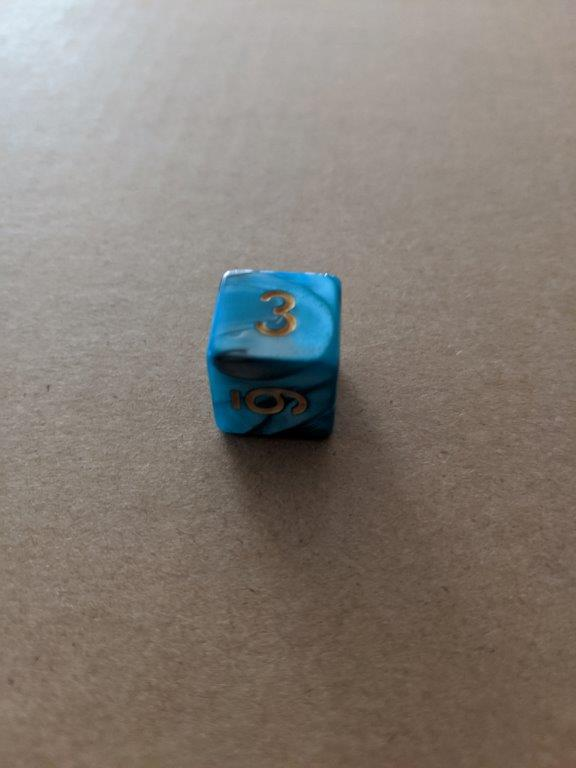d6-3: (206, 270, 342, 443)
